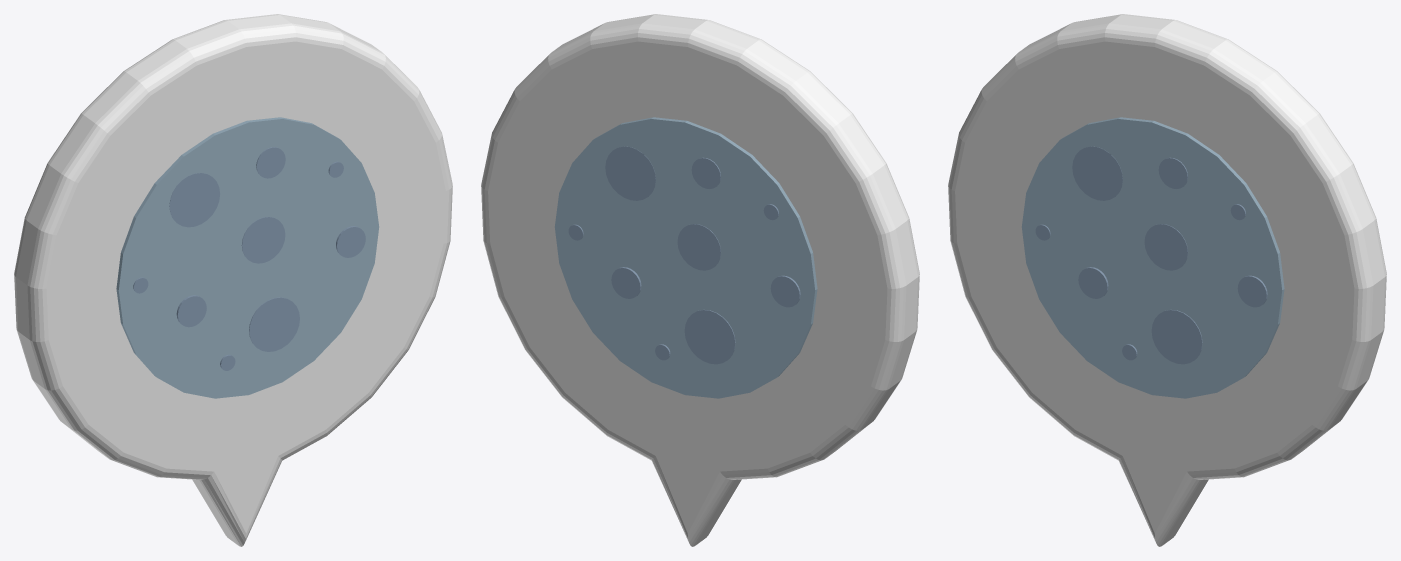
File: new_moon.glb
3 views of the same model, side by side, from view 1: azimuth 30°, elevation 25°; view 2: azimuth 150°, elevation 25°; view 3: azimuth 330°, elevation 25° (orthographic).
Visible parts, largest first — view 1: EmotionBubble; view 2: EmotionBubble; view 3: EmotionBubble.
Boxes of the visible parts, x1=… form: EmotionBubble: x1=14, y1=14, x2=452, y2=546; EmotionBubble: x1=481, y1=14, x2=919, y2=546; EmotionBubble: x1=948, y1=14, x2=1386, y2=546.
Bounding box in the file's own units: 5.29 × 6.16 × 0.724.
